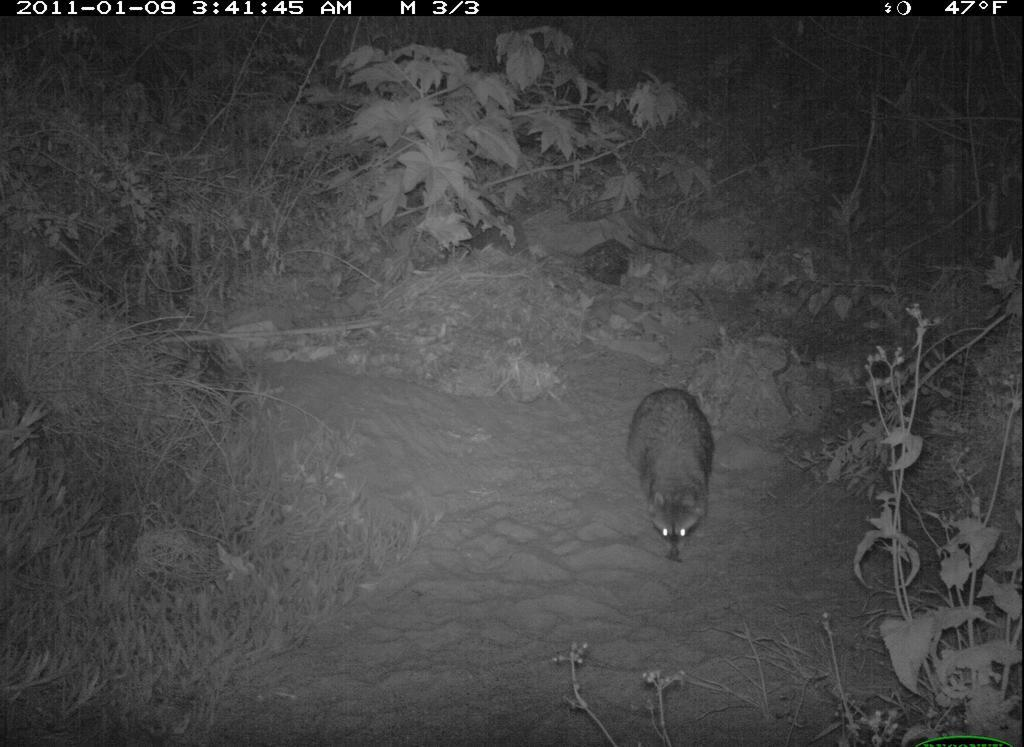raccoon: (624, 384, 720, 571)
